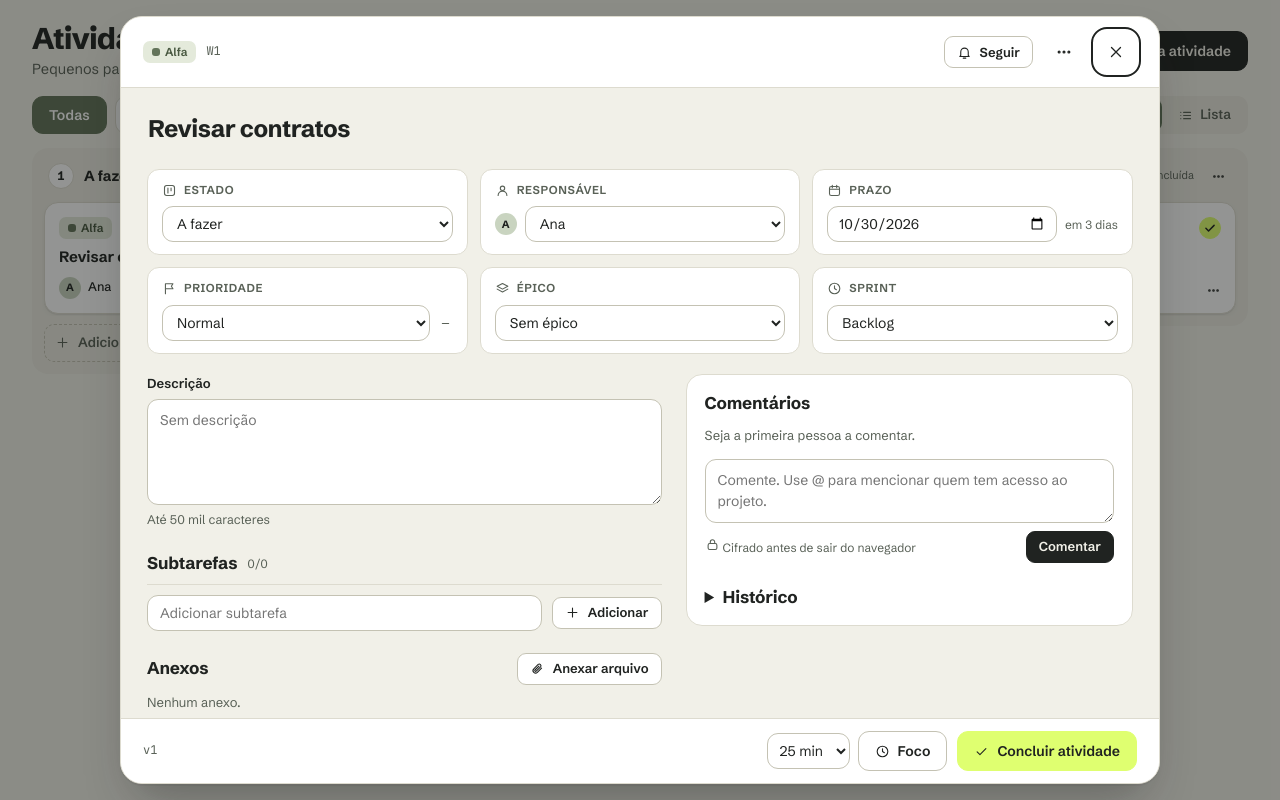
Test: activity card › adds a subtask and a comment
The image size is (1280, 800).
Type "Ler a cláusula 4" into the field named "Nova subtarefa" at x=344, y=613, box [147, 595, 542, 631]
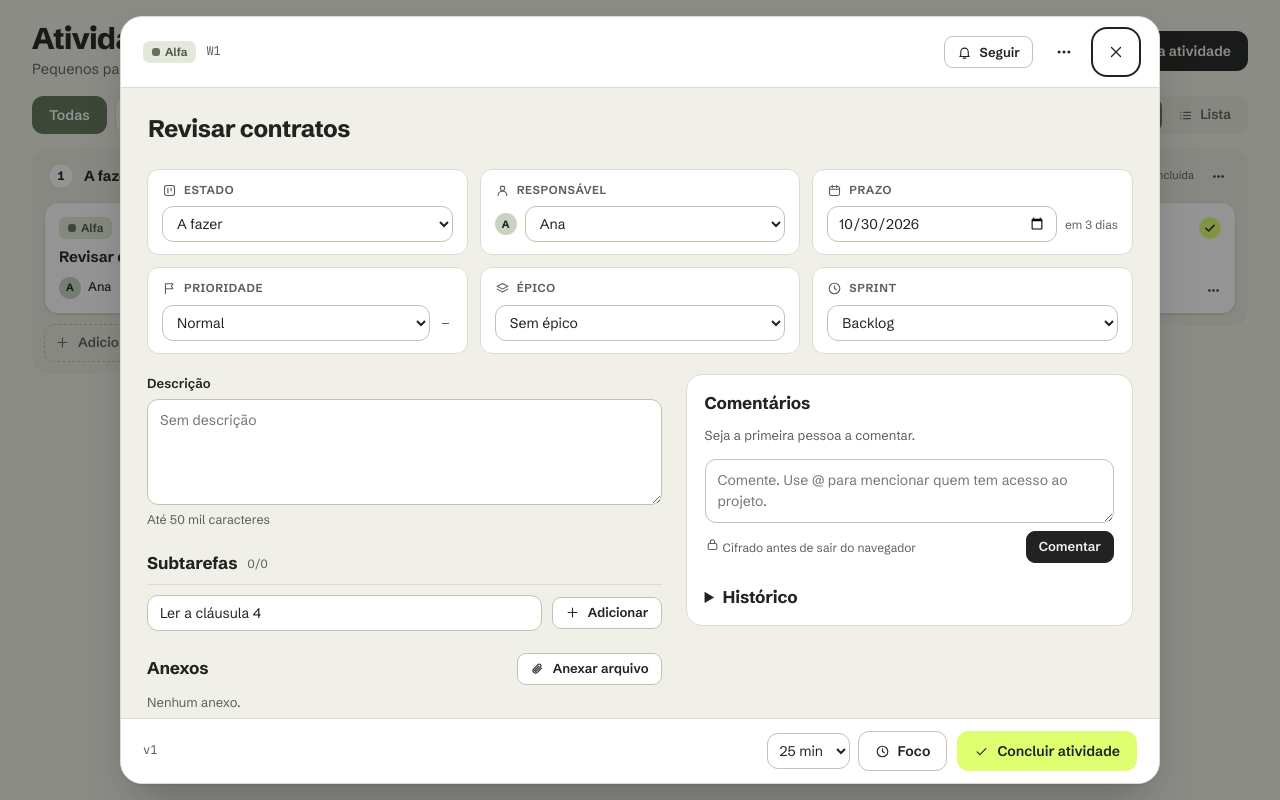
Submit the form named "Nova subtarefa", box [147, 584, 662, 631]
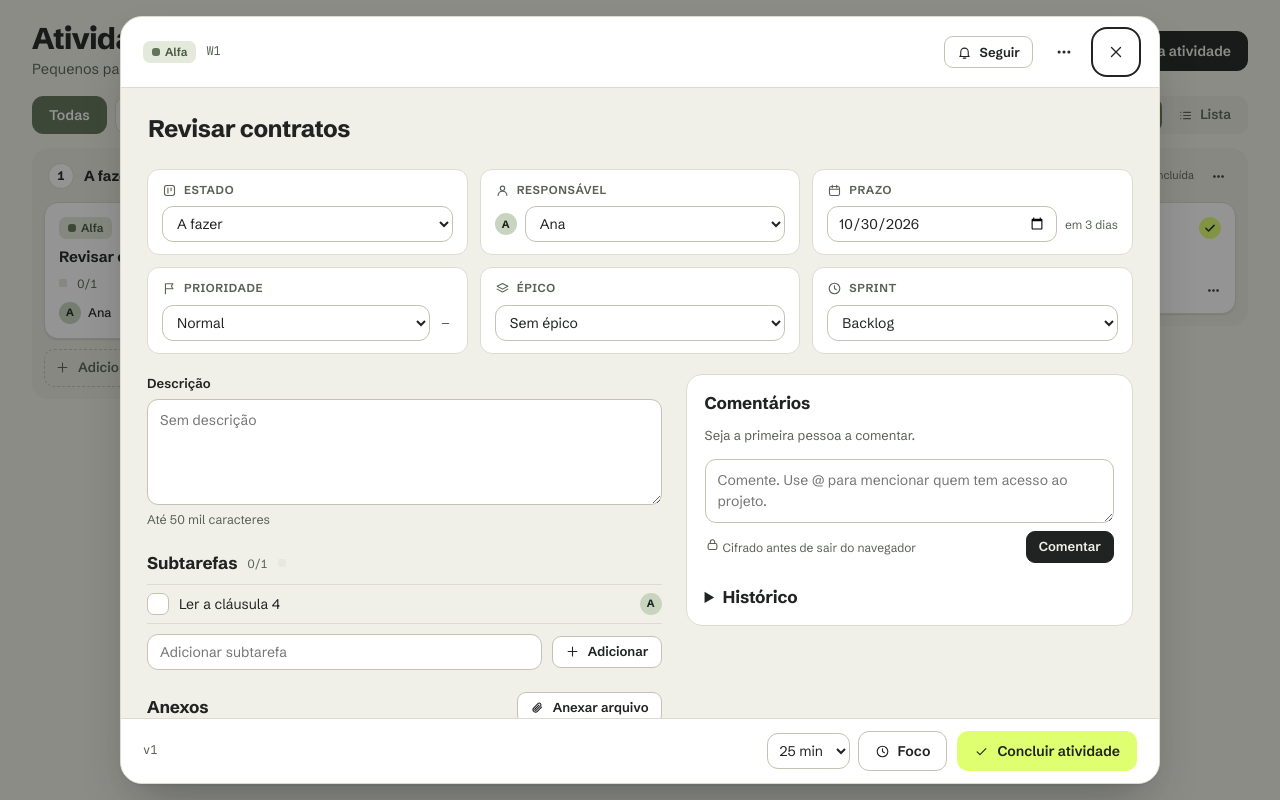
Type "Primeiro!" into the text box named "Novo comentário" at x=909, y=491, box [704, 459, 1114, 523]
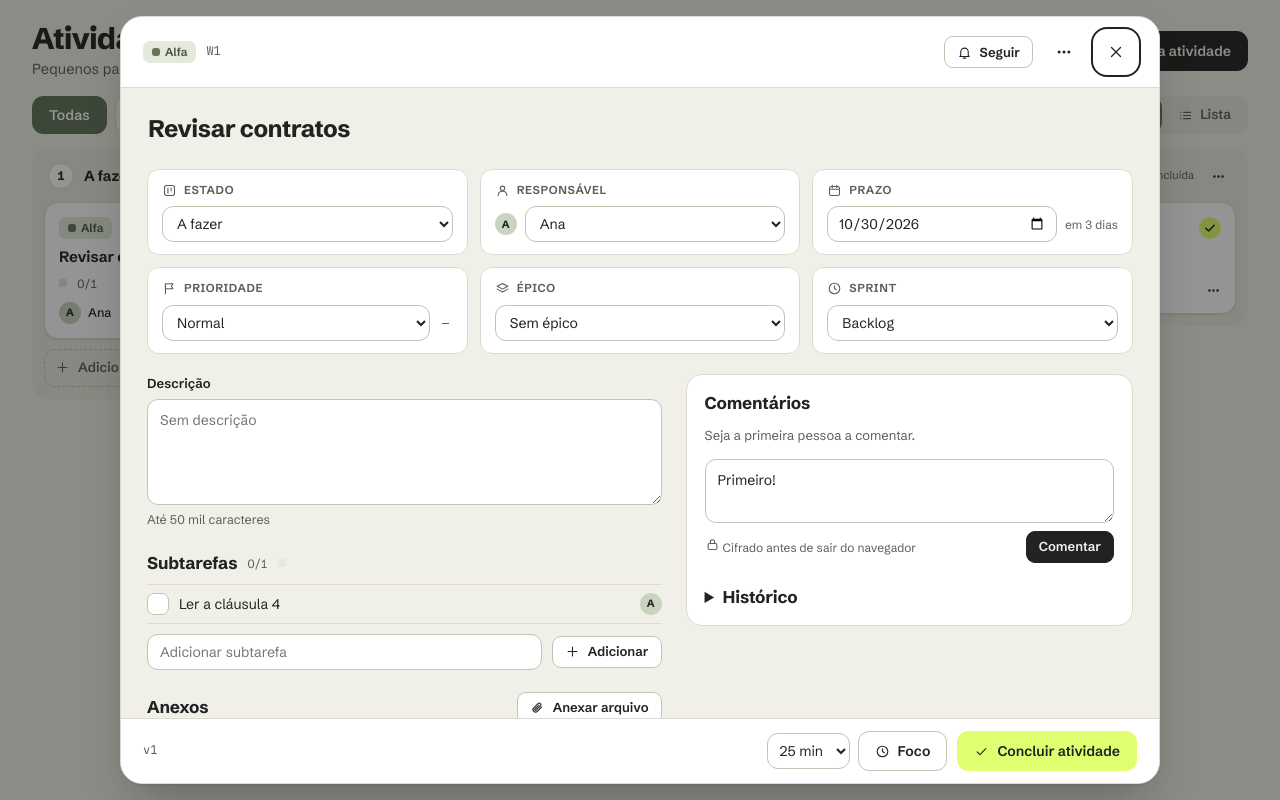
Submit the form named "Novo comentário", box [704, 459, 1114, 563]
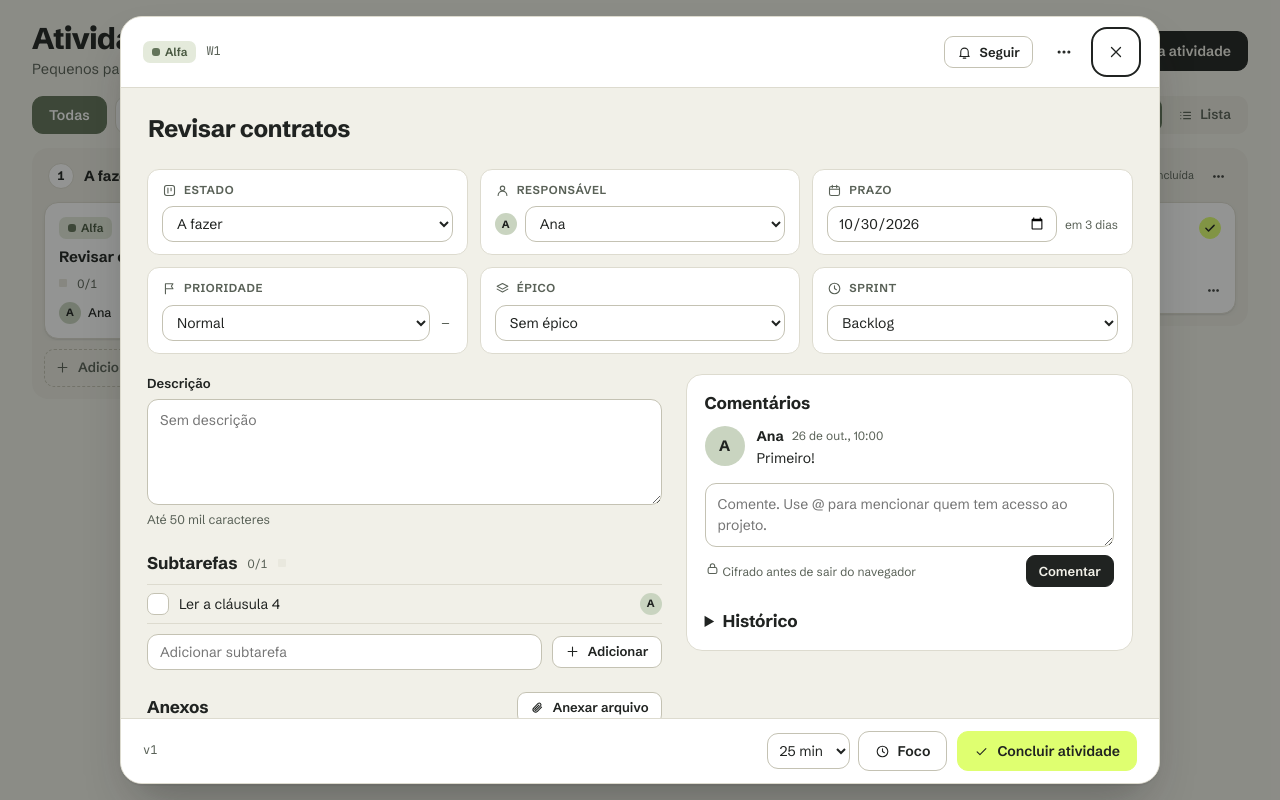
Now the text "Primeiro!" is shown, box [756, 449, 815, 467]
